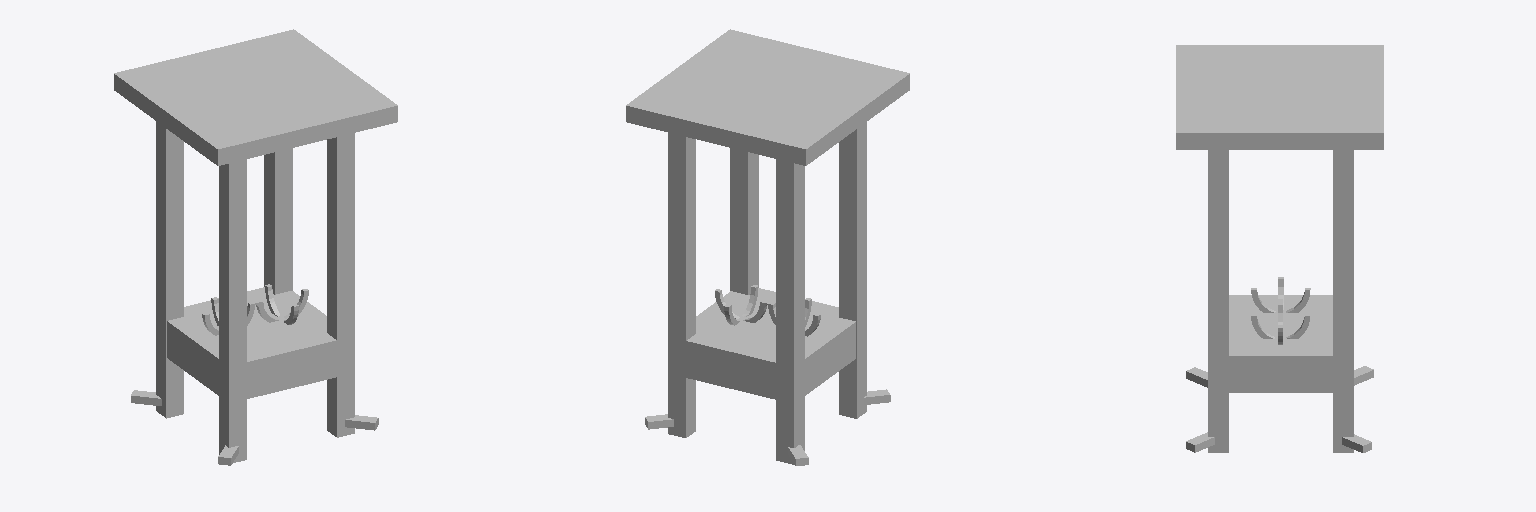
File: timemachine_case.obj
The picture shows the model from 3 angles: view 1: azimuth 30°, elevation 25°; view 2: azimuth 150°, elevation 25°; view 3: azimuth 270°, elevation 25°; orthographic projection.
Visible parts, largest first — view 1: Ноль.2; view 2: Ноль.2; view 3: Ноль.2.
Part boxes in pixels (x1,y1,x2,y2): Ноль.2: (114, 29, 397, 465); Ноль.2: (626, 29, 909, 465); Ноль.2: (1176, 45, 1383, 452).
Bounding box in the file's own units: 0.5 × 0.8823 × 0.5.